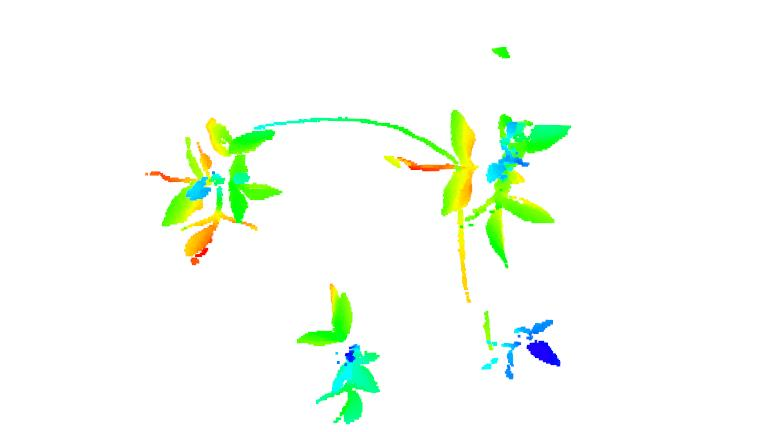mungbean: (384, 109, 583, 267), (145, 112, 284, 265), (295, 284, 380, 426), (478, 308, 570, 385)
